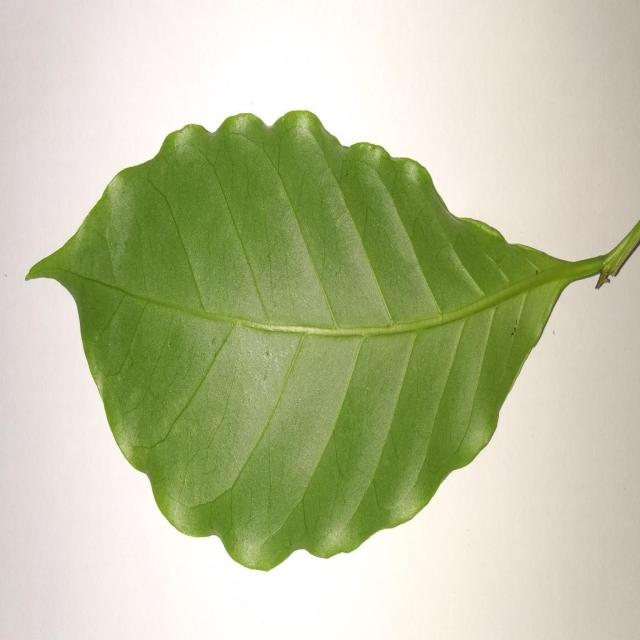Sanas: (25, 111, 640, 574)
